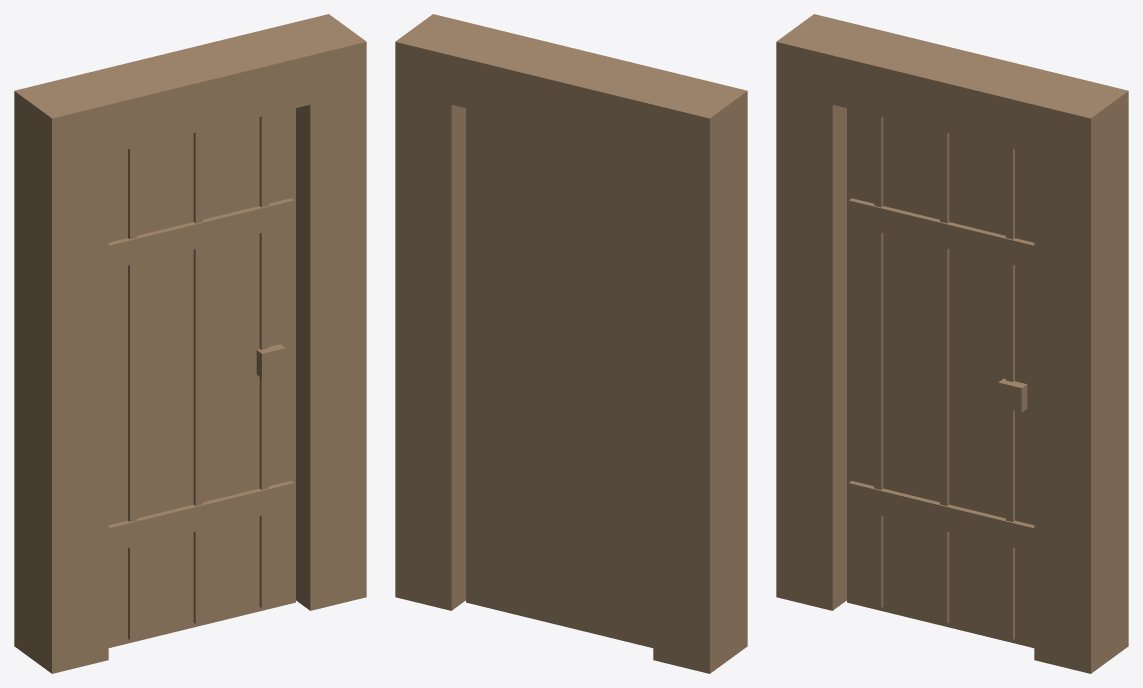
File: door.gltf
The picture shows the model from 3 angles, left to right: view 1: azimuth 30°, elevation 25°; view 2: azimuth 150°, elevation 25°; view 3: azimuth 330°, elevation 25°; orthographic projection.
Size of the model in its own units: 0.536 by 0.904 by 0.112.
